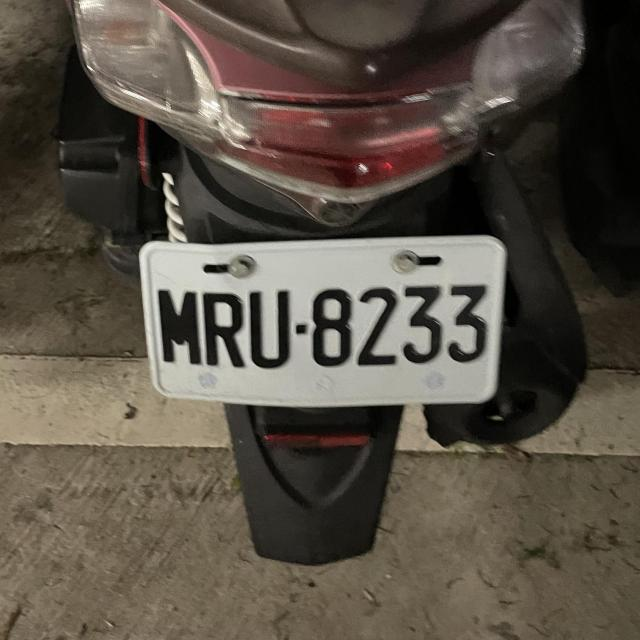W: (129, 215, 516, 418)
